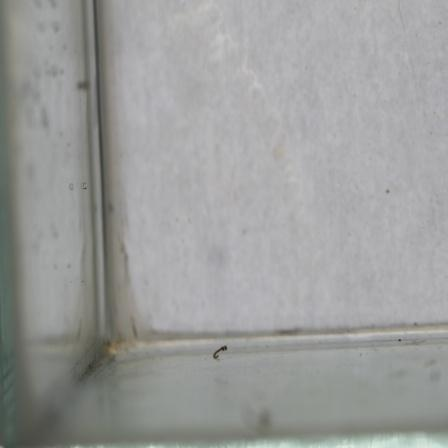Jentik-Nyamuk: (209, 341, 231, 364)
